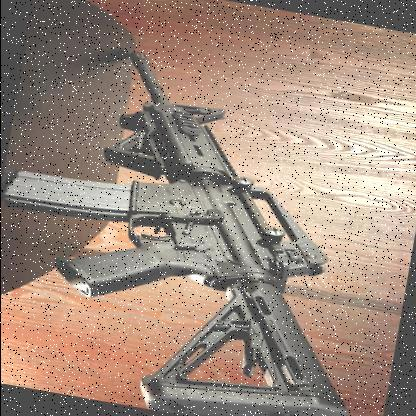rifle: (0, 22, 398, 416)
